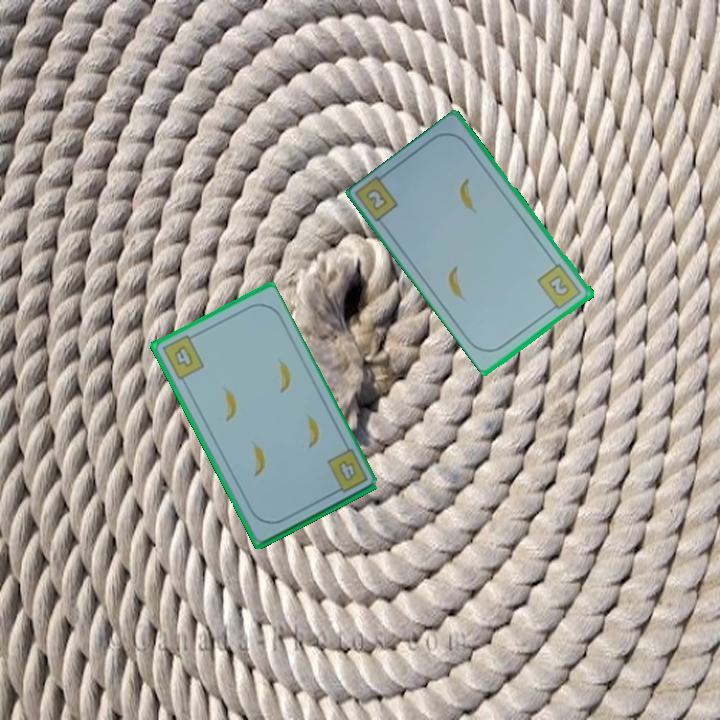2b: (534, 260, 585, 314), (362, 185, 391, 214)
4b: (158, 330, 207, 383), (323, 445, 371, 497)
